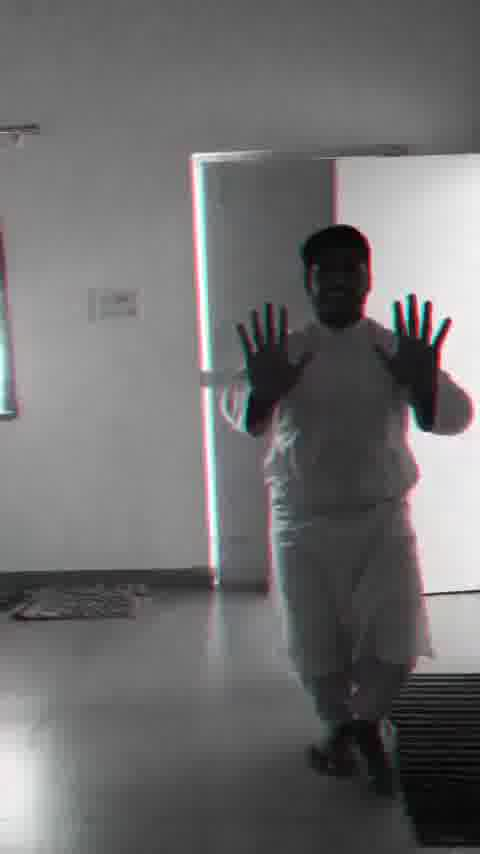duck: (218, 221, 480, 795)
